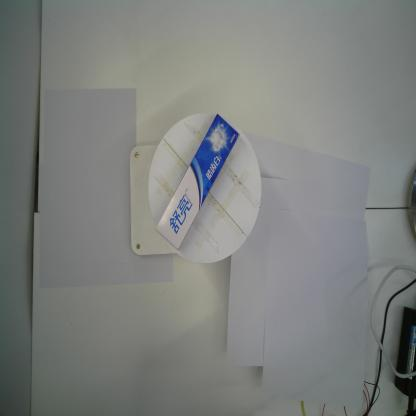Personal Hygiene: (156, 114, 239, 250)
